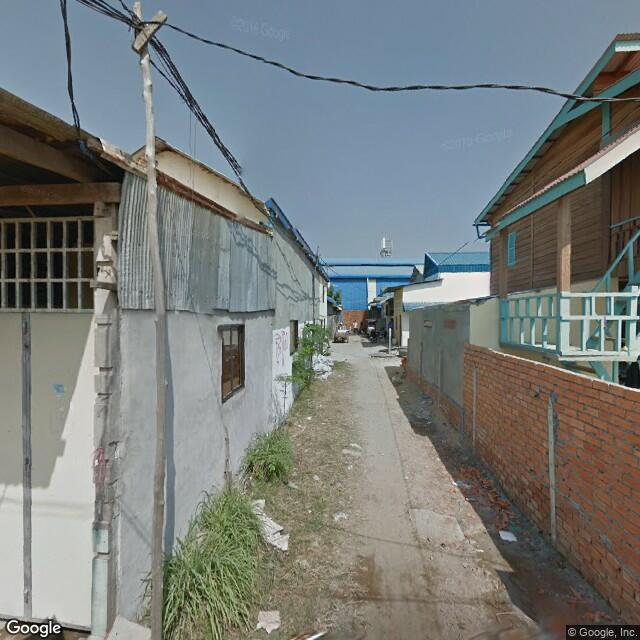litter: (248, 497, 290, 550), (258, 608, 281, 632), (452, 478, 471, 493), (498, 528, 516, 543), (334, 511, 344, 522)
